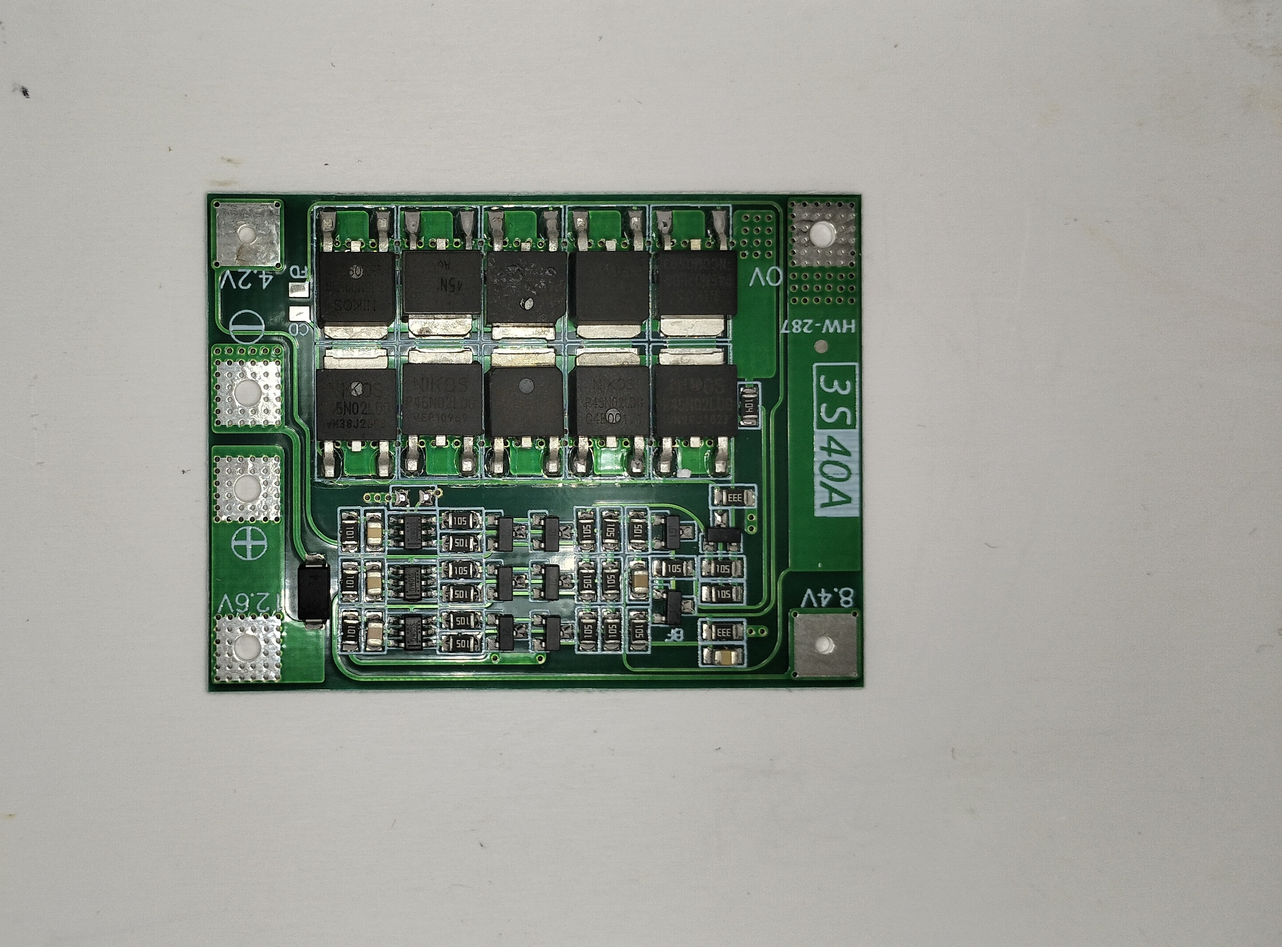C: (698, 643, 747, 665), (630, 556, 653, 599), (362, 511, 385, 553), (362, 613, 385, 655), (363, 561, 386, 603)
R 105: (575, 508, 599, 552), (655, 557, 701, 579), (437, 583, 483, 605), (443, 533, 489, 555), (628, 607, 651, 651), (576, 558, 599, 602), (627, 508, 650, 552), (601, 508, 624, 552), (697, 556, 742, 578), (600, 610, 623, 653), (602, 560, 625, 603), (436, 611, 482, 632), (575, 609, 597, 652), (699, 585, 744, 606), (440, 634, 485, 655), (441, 560, 486, 581), (440, 512, 485, 533)
R EEE: (709, 483, 759, 511), (698, 621, 747, 641)
R101: (337, 509, 361, 554), (337, 557, 361, 602), (337, 609, 361, 653)
R104: (738, 385, 762, 426)
diode: (295, 554, 334, 632)
ic 1: (399, 203, 484, 340), (314, 347, 399, 483), (652, 202, 737, 338), (569, 205, 654, 341), (483, 205, 568, 341), (314, 207, 399, 343), (651, 345, 736, 481), (568, 345, 653, 481), (482, 346, 567, 482), (399, 343, 484, 479)
ic 2: (387, 611, 439, 650), (386, 514, 437, 553), (386, 563, 437, 602)
transitor: (533, 612, 574, 658), (533, 556, 574, 602), (533, 511, 574, 556), (489, 556, 529, 602), (488, 512, 528, 557), (654, 586, 694, 631), (652, 512, 692, 557), (488, 610, 528, 655), (704, 512, 744, 557)
